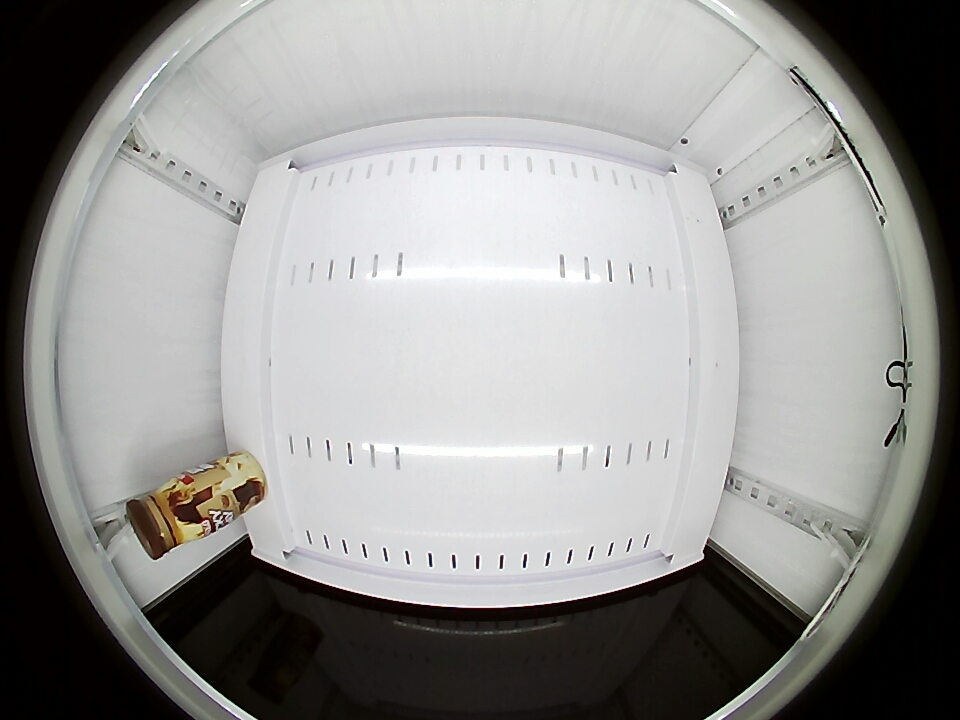lujikafei: (125, 475, 208, 560)
